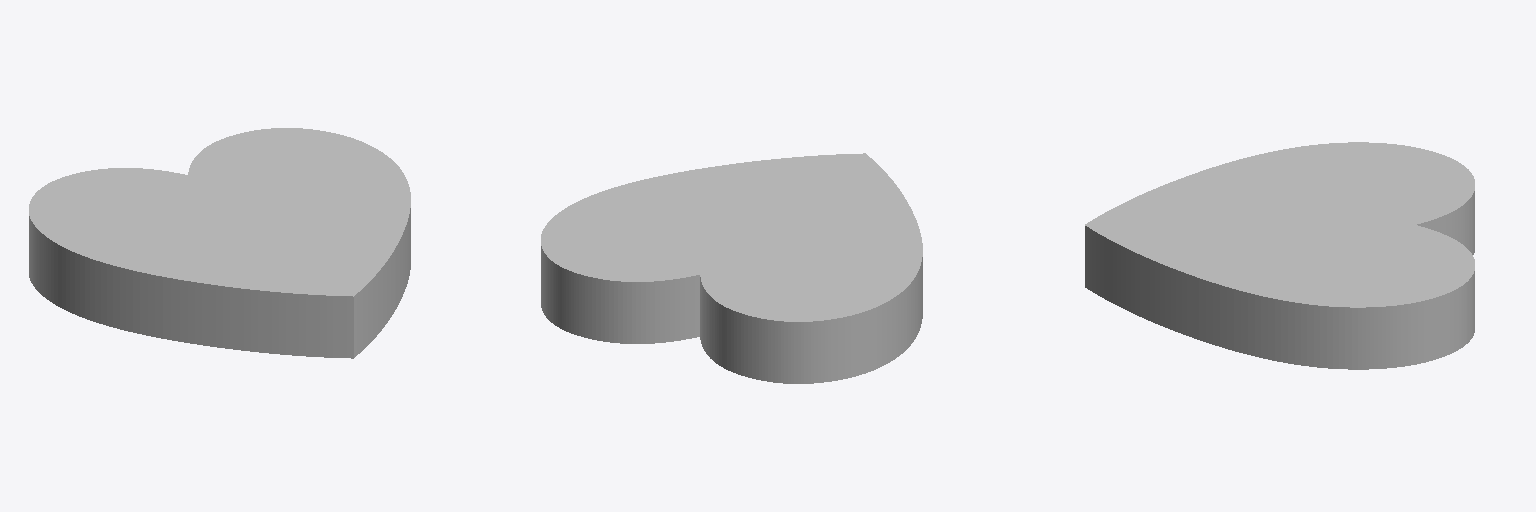
The model's file is favorite.obj.
The picture shows the model from 3 angles: view 1: azimuth 30°, elevation 25°; view 2: azimuth 150°, elevation 25°; view 3: azimuth 270°, elevation 25°; orthographic projection.
Visible parts, largest first — view 1: typeMesh2; view 2: typeMesh2; view 3: typeMesh2.
Boxes of the visible parts, <box> form: typeMesh2: <box>29,128,410,358</box>; typeMesh2: <box>541,153,922,383</box>; typeMesh2: <box>1085,142,1474,369</box>.
Size of the model in its own units: 6.97 by 1.22 by 6.97.